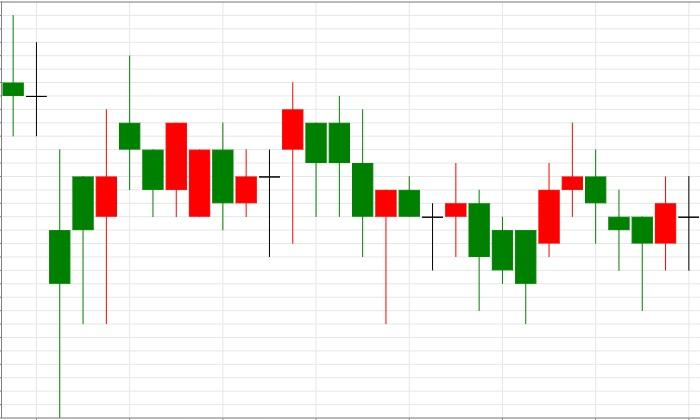hammer_rise: (281, 81, 397, 324), (561, 123, 654, 311)
